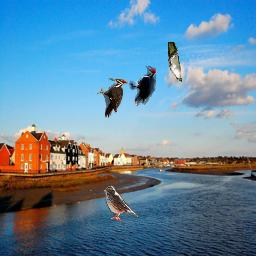Cuckoo: (168, 42, 182, 82)
Sparrow: (103, 185, 138, 222)
Woodpecker: (97, 78, 128, 118), (129, 66, 156, 106)
